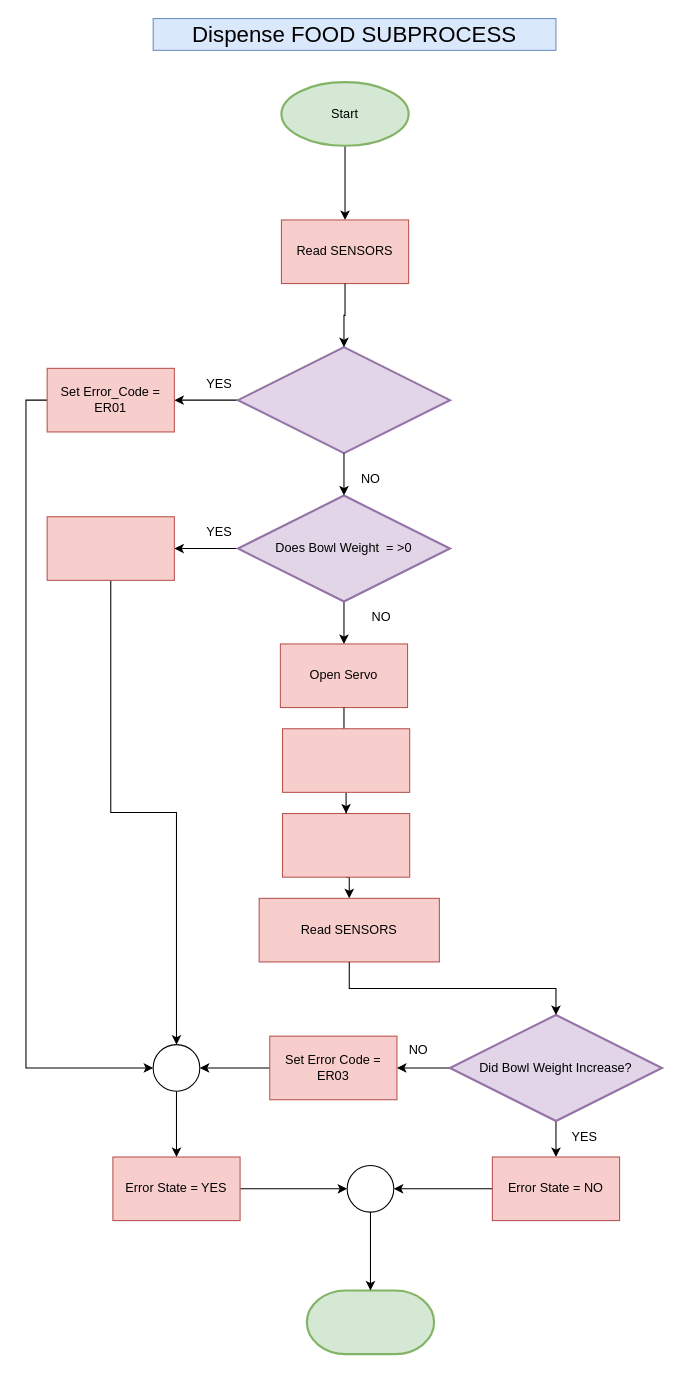
Image size: 682x1374. Some labels were removed from this diagram. Each missing label, with the centre of its shape:
"Close Servo" goes at point (345, 844).
"Does Hopper Weight =< 100" goes at point (343, 400).
"END" goes at point (370, 1322).
"Set Error Code = ER02" goes at point (110, 548).
"WAIT = Dispense Duration" goes at point (345, 760).
